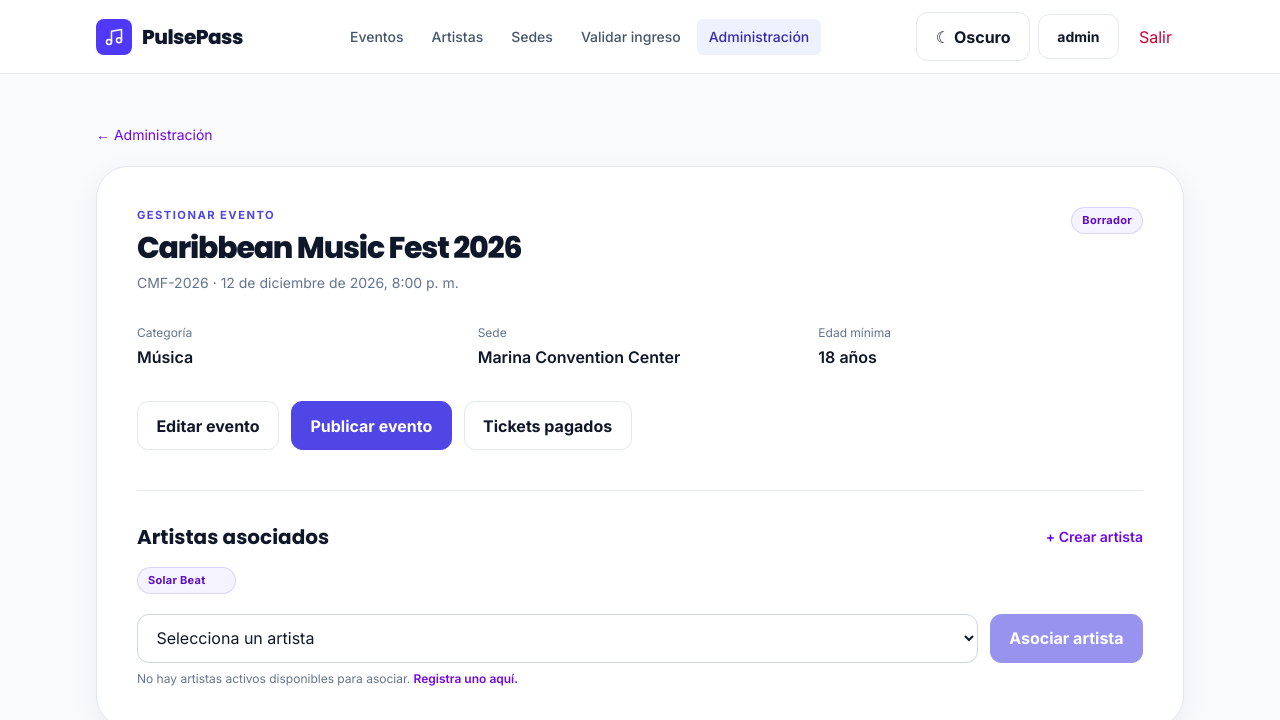
Test: ADMIN: eventos › publicar un evento DRAFT pide confirmación y actualiza el estado
Click the button "Publicar evento": {"x": 371, "y": 426} [291,401,452,450]
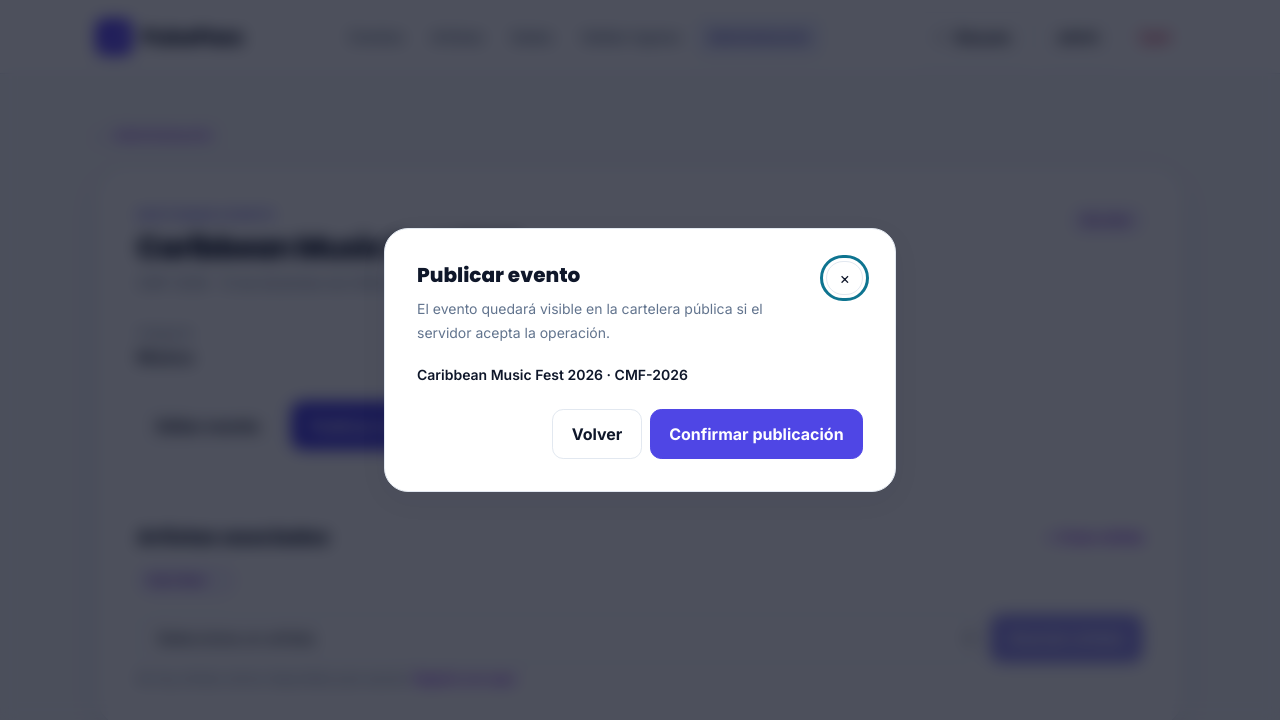
Click the button "Confirmar publicación": {"x": 756, "y": 434} [650,410,863,458]
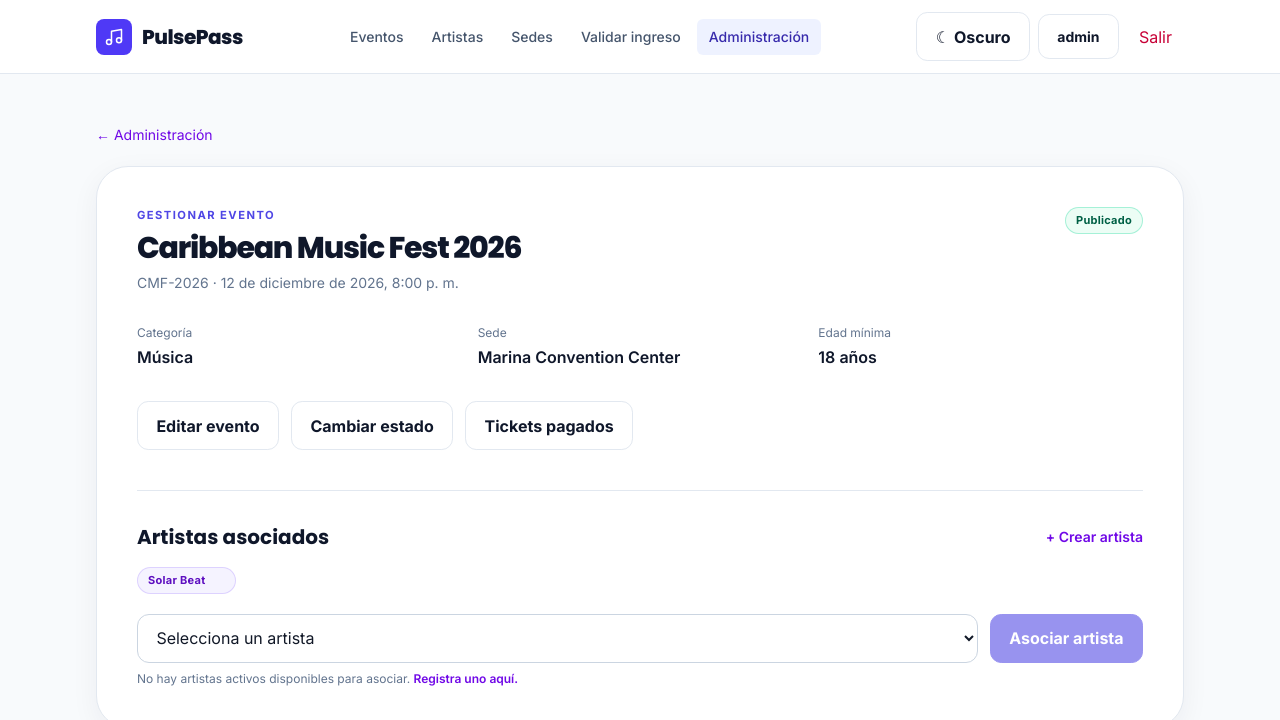
Expected: the text "Publicado" is shown, [1065,207,1143,234]
Expected: the button "Publicar evento" is gone
